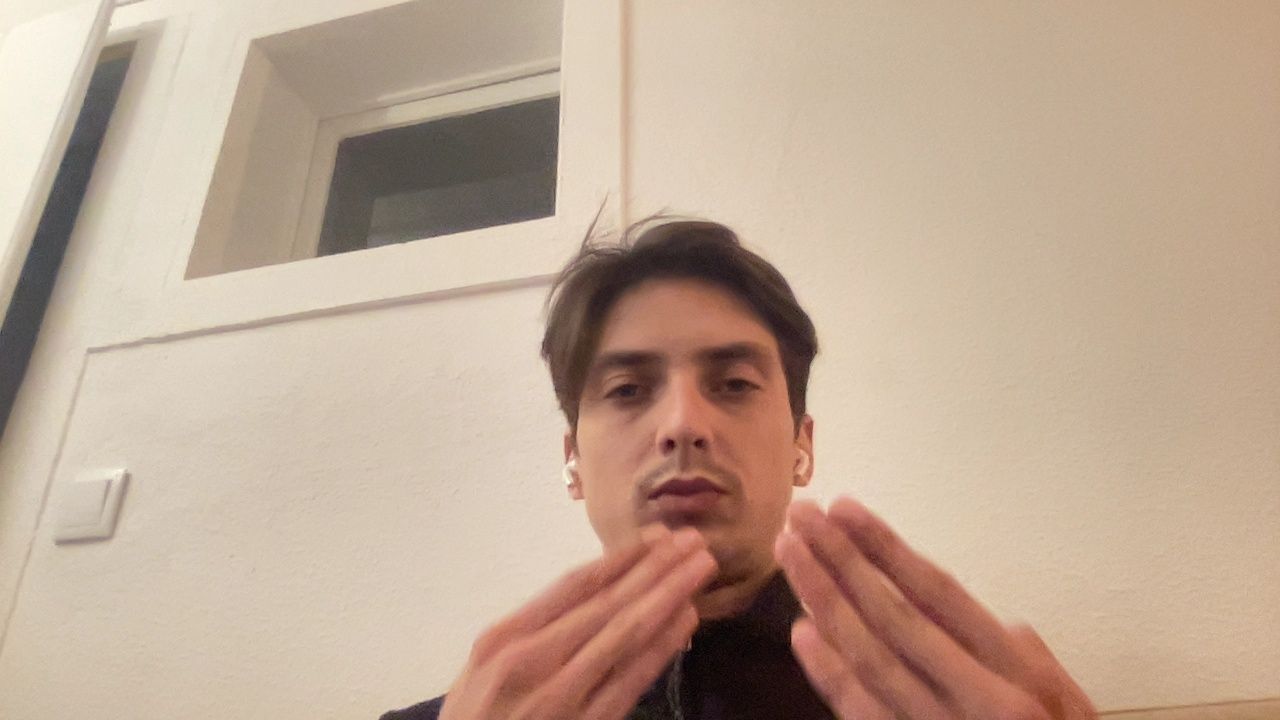Thank you: (753, 455, 1120, 720), (398, 527, 734, 708)
